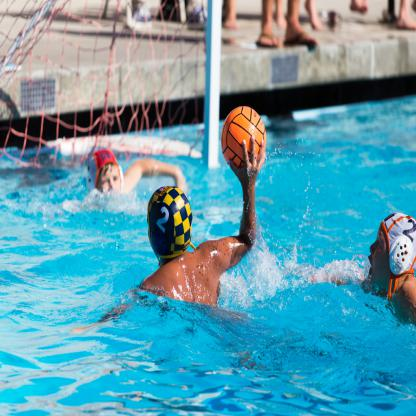Ball: (221, 105, 265, 170)
